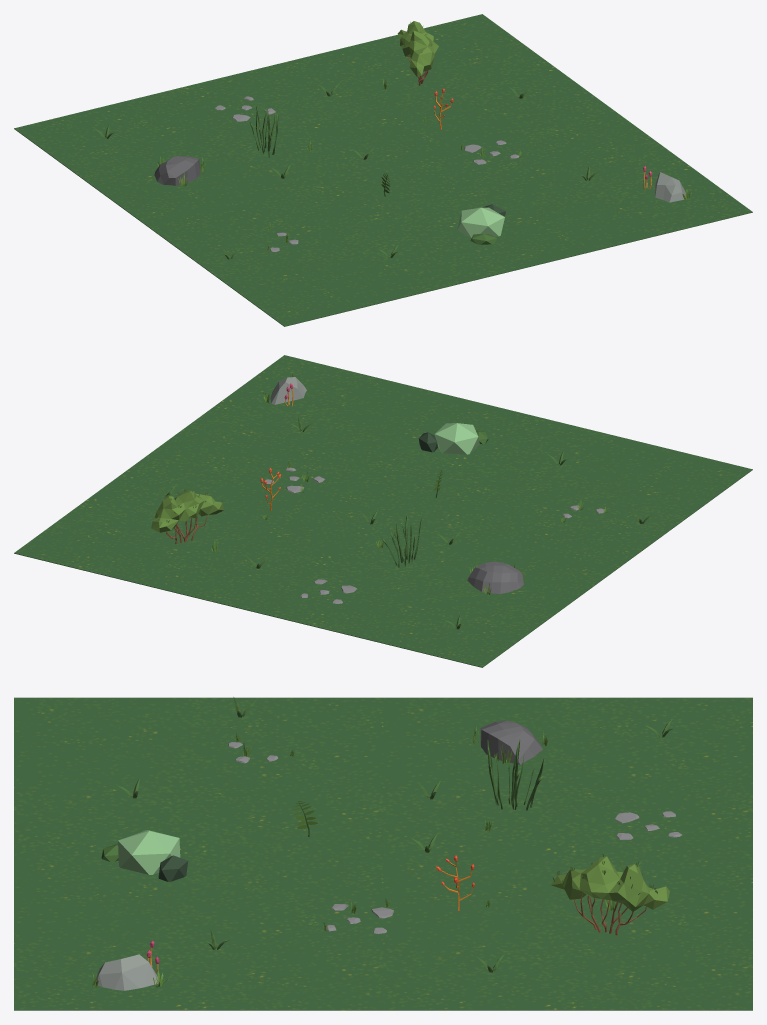
3 renders of one model, top to bottom at view 1: azimuth 30°, elevation 25°; view 2: azimuth 150°, elevation 25°; view 3: azimuth 270°, elevation 25°, orthographic. The views are drawn at different scales.
Parts seen in each view (by area): view 1: EP_12; view 2: EP_12; view 3: EP_12.
Part boxes in pixels (<box>): EP_12: <box>14,14,752,326</box>; EP_12: <box>14,355,752,667</box>; EP_12: <box>14,697,752,1010</box>.
Size of what is drawn, in the model's own units: 16 by 1.97 by 16.
Materials: 1 (1 with a texture image).
